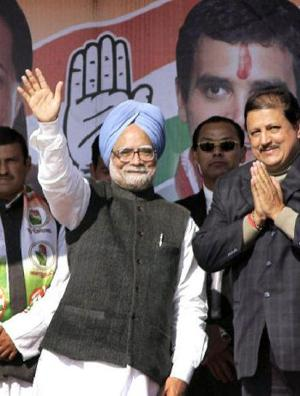person: (17, 67, 208, 396)
